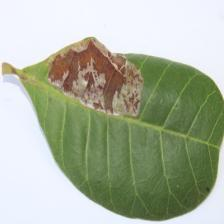leaf miner: (0, 36, 224, 221)
